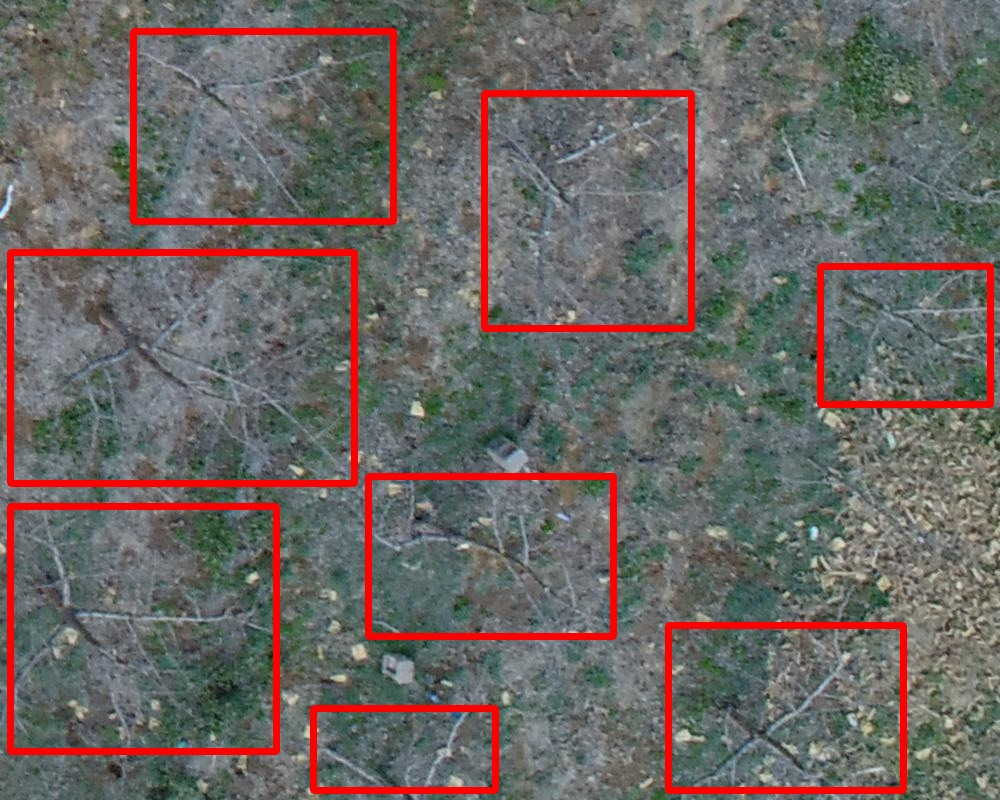apple: (10, 252, 354, 483), (10, 506, 276, 751), (133, 31, 393, 221), (484, 93, 691, 328), (368, 476, 613, 636), (668, 625, 903, 790), (820, 266, 990, 404), (313, 708, 495, 790)
